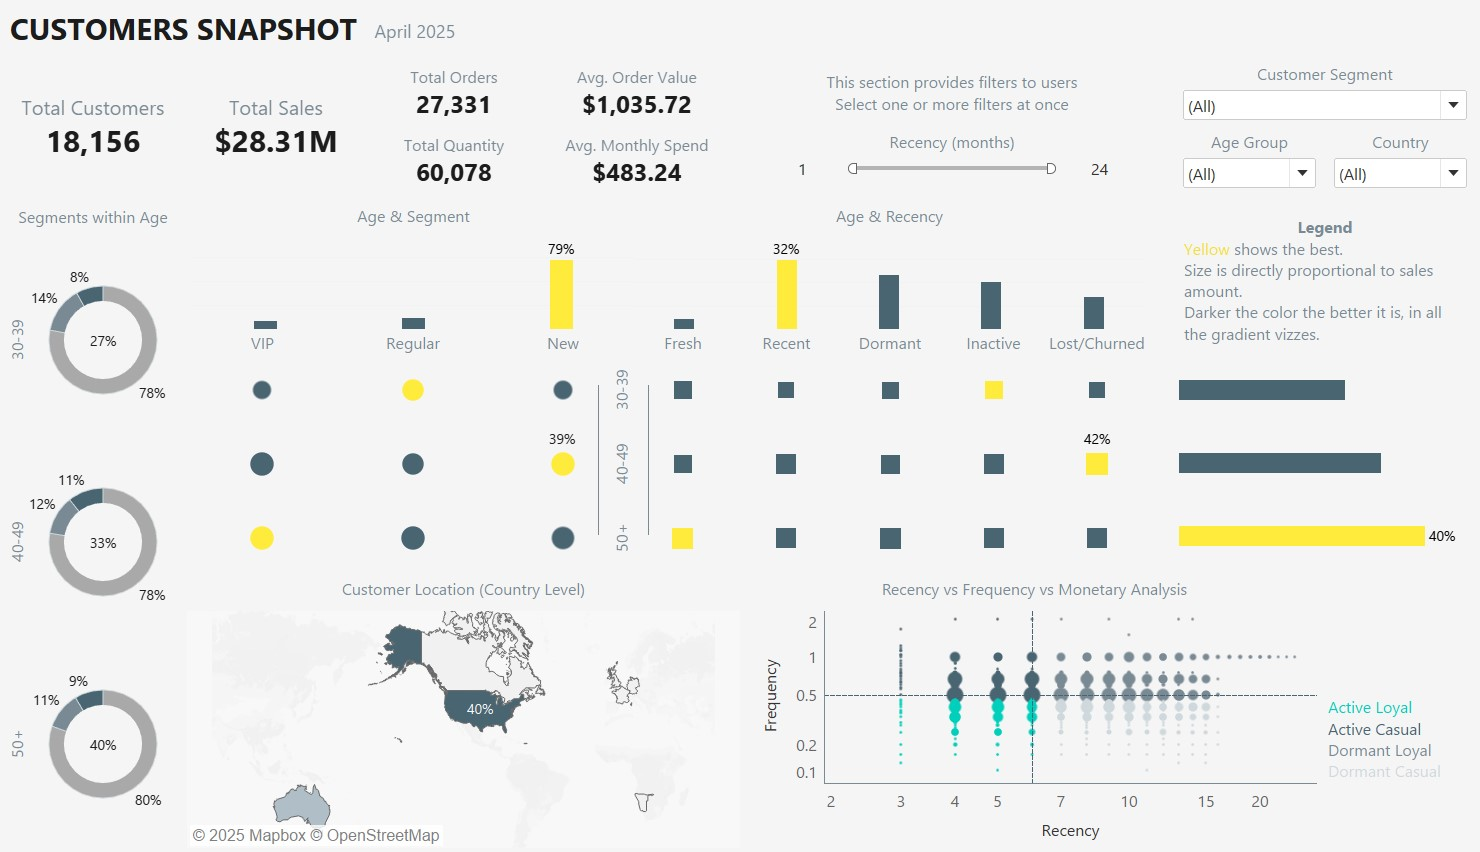

The page's visual inventory and layout, read from the dashboard file:
{"tool":"tableau","page":{"name":"Customer Snapshot","canvas":[1500,870],"ordinal":0},"visuals":[{"type":"title","box":[12,12,1476,48]},{"type":"worksheet","title":"Current Month","mark":"Automatic","box":[380,23,285,31]},{"type":"worksheet","title":"Total Customers","mark":"Automatic","box":[18,71,170,128]},{"type":"worksheet","title":"Total Sales","mark":"Automatic","box":[201,71,170,128]},{"type":"worksheet","title":"Total Orders","mark":"Automatic","box":[379,71,170,60]},{"type":"worksheet","title":"Avg Order Value","mark":"Automatic","box":[562,71,170,60]},{"type":"text","box":[771,71,382,60]},{"type":"filter","title":"Total Customers","param":"[federated.01ng4zx0pgjx1h1ej192u1oitzen].[none:customer_segment:nk]","box":[1190,71,290,60]},{"type":"worksheet","title":"Total Quantity","mark":"Automatic","box":[379,139,170,60]},{"type":"worksheet","title":"Avg Monthly Spend","mark":"Automatic","box":[562,139,170,60]},{"type":"filter","title":"Total Customers","param":"[federated.01ng4zx0pgjx1h1ej192u1oitzen].[none:recency:qk]","box":[771,139,382,60]},{"type":"filter","title":"Total Customers","param":"[federated.01ng4zx0pgjx1h1ej192u1oitzen].[none:age_group:nk]","box":[1190,139,139,60]},{"type":"filter","title":"Total Customers","param":"[federated.01ng4zx0pgjx1h1ej192u1oitzen].[none:country:nk]","box":[1341,139,139,60]},{"type":"worksheet","title":"Segment-wise distribution","mark":"Bar","rows":["customer_key"],"cols":["customer_segment"],"box":[201,209,445,129]},{"type":"worksheet","title":"Recency buckets distribution","mark":"Bar","rows":["customer_key"],"cols":["Calculation_2302746849601585158"],"box":[643,209,513,129]},{"type":"worksheet","title":"Cust Segmentation","mark":"Pie","rows":["age_group"],"cols":["Calculation_2302746849353383940","Calculation_2302746849353383940"],"box":[18,210,170,643]},{"type":"text","box":[1190,222,290,136]},{"type":"worksheet","title":"Age vs Segment","mark":"Shape","rows":["age_group"],"cols":["customer_segment"],"box":[197,341,452,242]},{"type":"worksheet","title":"Age vs Recency bins","mark":"Square","rows":["age_group"],"cols":["Calculation_2302746849601585158"],"box":[621,341,538,242]},{"type":"worksheet","title":"Age-wise distribution","mark":"Bar","rows":["age_group"],"cols":["customer_key"],"box":[1188,361,295,221]},{"type":"blank","box":[608,393,1,150]},{"type":"blank","box":[658,393,1,150]},{"type":"worksheet","title":"Map Distribution","mark":"Automatic","box":[197,582,553,274]},{"type":"worksheet","title":"Recency vs Frequency","mark":"Automatic","rows":["Calculation_2302746849636757519"],"cols":["recency"],"box":[762,582,565,274]},{"type":"text","box":[1334,702,149,92]}]}

Visuals, with their boxes in screenshot pixels (x1, y1, x2, y2), scaled from the page's 1500x870 canvas onto the 1480x852 screenshot:
title: pyautogui.locateOnScreen(12, 12, 1468, 59)
"Current Month" worksheet: pyautogui.locateOnScreen(375, 23, 656, 53)
"Total Customers" worksheet: pyautogui.locateOnScreen(18, 70, 185, 195)
"Total Sales" worksheet: pyautogui.locateOnScreen(198, 70, 366, 195)
"Total Orders" worksheet: pyautogui.locateOnScreen(374, 70, 542, 128)
"Avg Order Value" worksheet: pyautogui.locateOnScreen(555, 70, 722, 128)
text: pyautogui.locateOnScreen(761, 70, 1138, 128)
"Total Customers" filter: pyautogui.locateOnScreen(1174, 70, 1460, 128)
"Total Quantity" worksheet: pyautogui.locateOnScreen(374, 136, 542, 195)
"Avg Monthly Spend" worksheet: pyautogui.locateOnScreen(555, 136, 722, 195)
"Total Customers" filter: pyautogui.locateOnScreen(761, 136, 1138, 195)
"Total Customers" filter: pyautogui.locateOnScreen(1174, 136, 1311, 195)
"Total Customers" filter: pyautogui.locateOnScreen(1323, 136, 1460, 195)
"Segment-wise distribution" worksheet (Bar marks): pyautogui.locateOnScreen(198, 205, 637, 331)
"Recency buckets distribution" worksheet (Bar marks): pyautogui.locateOnScreen(634, 205, 1141, 331)
"Cust Segmentation" worksheet (Pie marks): pyautogui.locateOnScreen(18, 206, 185, 835)
text: pyautogui.locateOnScreen(1174, 217, 1460, 351)
"Age vs Segment" worksheet (Shape marks): pyautogui.locateOnScreen(194, 334, 640, 571)
"Age vs Recency bins" worksheet (Square marks): pyautogui.locateOnScreen(613, 334, 1144, 571)
"Age-wise distribution" worksheet (Bar marks): pyautogui.locateOnScreen(1172, 354, 1463, 570)
blank: pyautogui.locateOnScreen(600, 385, 601, 532)
blank: pyautogui.locateOnScreen(649, 385, 650, 532)
"Map Distribution" worksheet: pyautogui.locateOnScreen(194, 570, 740, 838)
"Recency vs Frequency" worksheet: pyautogui.locateOnScreen(752, 570, 1309, 838)
text: pyautogui.locateOnScreen(1316, 687, 1463, 778)
